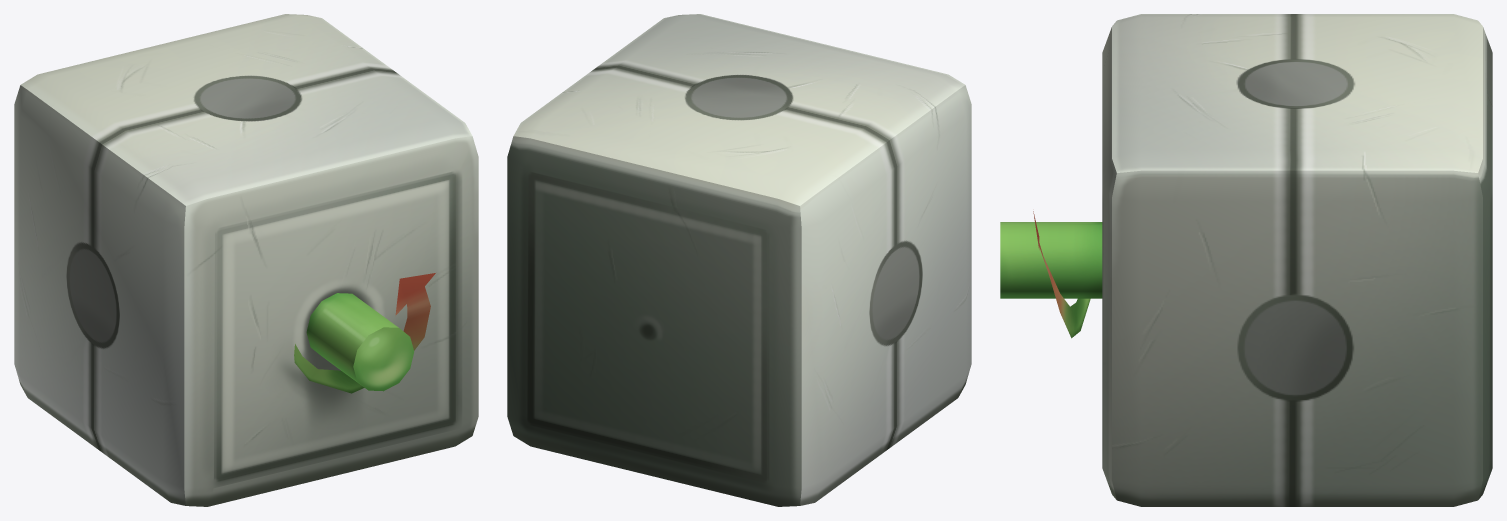
Rendered from Rotation.FBX.
3 views of the same model, side by side, from view 1: azimuth 30°, elevation 25°; view 2: azimuth 150°, elevation 25°; view 3: azimuth 270°, elevation 25° (orthographic). The views are drawn at different scales.
Visible parts, largest first — view 1: Normal_B016; view 2: Normal_B016; view 3: Normal_B016.
Part boxes in pixels (x1,y1,x2,y2): Normal_B016: [14, 14, 478, 506]; Normal_B016: [507, 14, 971, 506]; Normal_B016: [1000, 14, 1492, 506].
Size of the model in its own units: 10 by 10 by 12.61.
